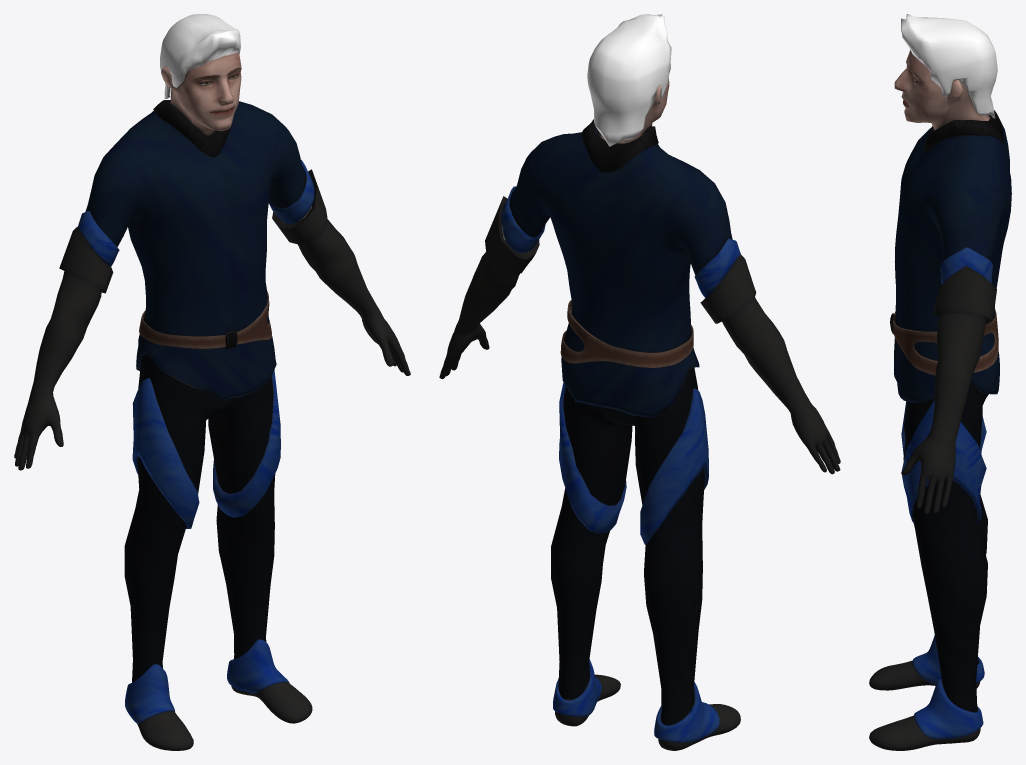
File: h_sem_capa.obj
3 views of the same model, side by side, from view 1: azimuth 30°, elevation 25°; view 2: azimuth 150°, elevation 25°; view 3: azimuth 270°, elevation 25° (orthographic).
Parts seen in each view (by area): view 1: h:pSphere2; view 2: h:pSphere2; view 3: h:pSphere2.
Boxes of the visible parts, left/top/right/bottom form: h:pSphere2: left=14, top=14, right=410, bottom=750; h:pSphere2: left=439, top=14, right=840, bottom=750; h:pSphere2: left=869, top=14, right=1011, bottom=750.
Size of the model in its own units: 193 by 326 by 60.76.
1 material, 1 textured.
